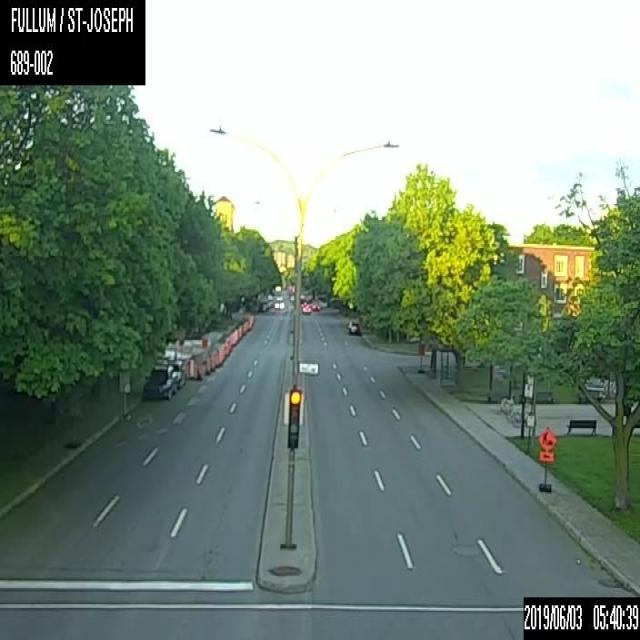construction: (538, 425, 558, 491), (195, 357, 203, 380), (187, 357, 195, 379), (209, 350, 215, 370), (204, 356, 210, 374), (202, 338, 206, 347)
vehicle: (138, 365, 176, 399), (166, 359, 186, 388), (345, 319, 360, 333), (273, 296, 285, 309), (302, 304, 311, 313), (312, 302, 320, 310)
